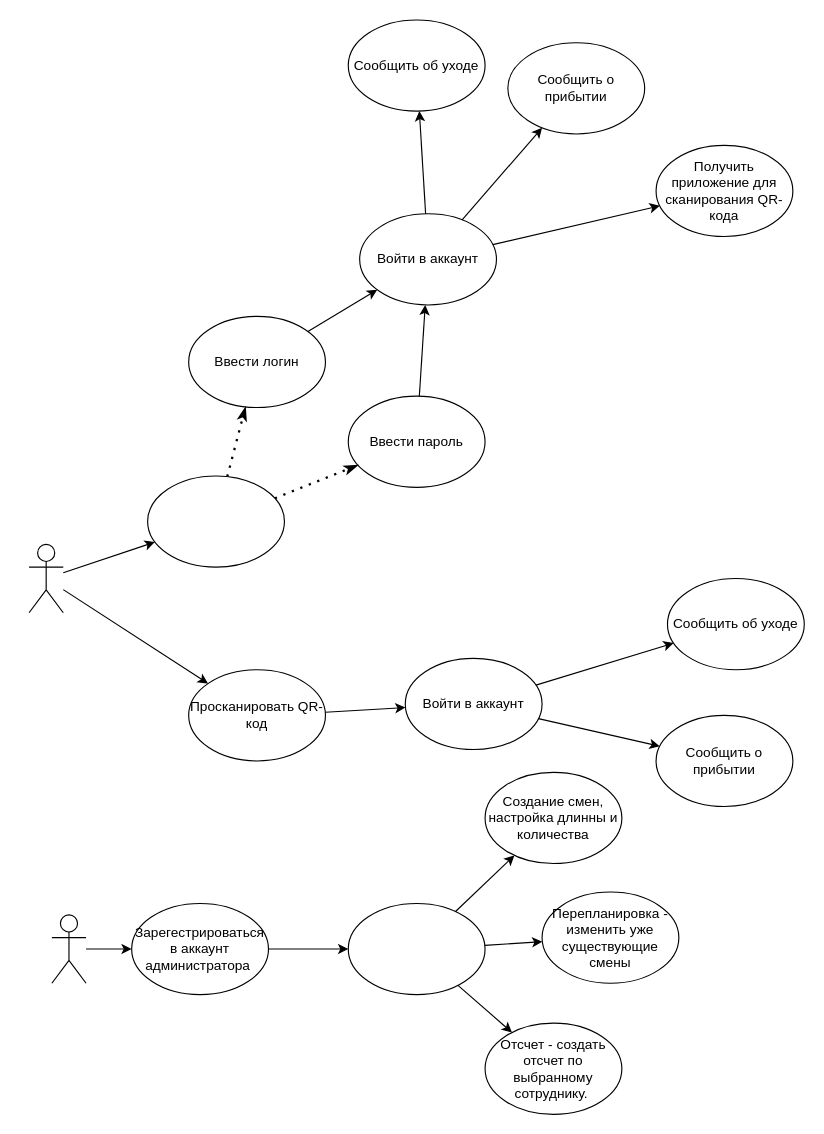
Image size: 824x1134. Some labels were removed from this diagram. The centre of each missing label's shape, as x and y in pixels:
"Admin" belongs at point 68,948.
"Employe" belongs at point 45,578.
"Зарегестрироваться" belongs at point 215,521.
"Экран отображающий расписание" belongs at point 416,948.
